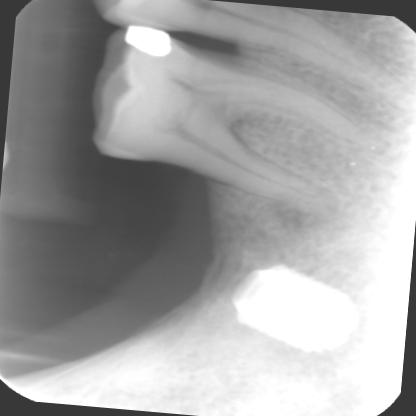Bicon: (231, 253, 357, 356)
